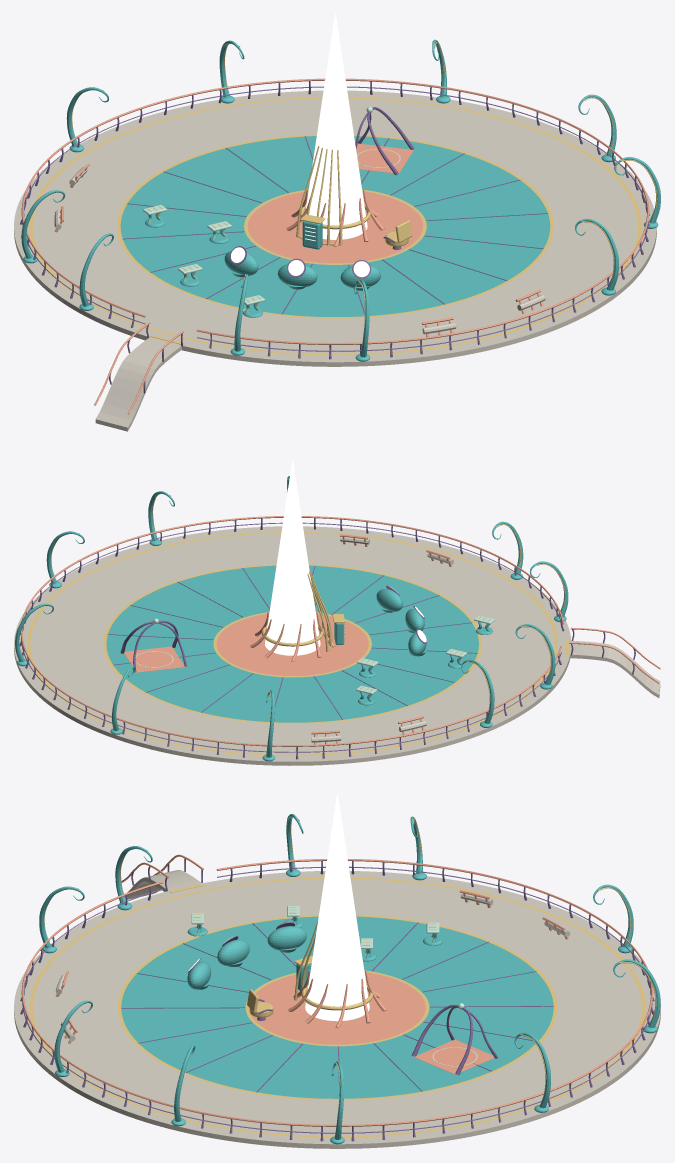
File: play_bridge.glb
3 views of the same model, one above another, from view 1: azimuth 30°, elevation 25°; view 2: azimuth 150°, elevation 25°; view 3: azimuth 270°, elevation 25° (orthographic). The views are drawn at different scales.
Parts seen in each view (by area): view 1: WALK_bridge_deck, deck_floor_fill, spire_needle, ramp_down, lift_arrival_pad, archive_shrine_ribs, console_navigation_1, console_navigation_2, WALK_bridge_ramp_head, console_navigation_0, archive_terminal, lift_arrival_arch (+3 smaller); view 2: WALK_bridge_deck, deck_floor_fill, spire_needle, ramp_down, lift_arrival_pad, lift_arrival_arch, archive_shrine_ribs, console_navigation_2, deck_body_05, rim_frond_5, WALK_bridge_ramp_head, deck_body_04 (+2 smaller); view 3: WALK_bridge_deck, deck_floor_fill, spire_needle, lift_arrival_pad, ramp_down, console_navigation_0, lift_arrival_arch, console_navigation_1, deck_body_00, deck_body_15, rim_frond_2, rim_frond_1 (+9 smaller).
Part boxes in pixels (box(x1,y1,x2,y2)): WALK_bridge_deck: box(33, 98, 637, 354); deck_floor_fill: box(14, 90, 656, 363); spire_needle: box(286, 14, 384, 246); ramp_down: box(94, 322, 184, 431); lift_arrival_pad: box(356, 143, 413, 173); archive_shrine_ribs: box(296, 146, 342, 245); console_navigation_1: box(277, 258, 317, 289); console_navigation_2: box(340, 260, 380, 290); WALK_bridge_ramp_head: box(128, 337, 180, 363); console_navigation_0: box(224, 246, 258, 277); archive_terminal: box(300, 214, 325, 249); lift_arrival_arch: box(355, 106, 414, 175); WALK_bridge_deck: box(30, 533, 570, 754); deck_floor_fill: box(14, 526, 608, 761); spire_needle: box(250, 460, 334, 661); ramp_down: box(565, 627, 660, 697); lift_arrival_pad: box(124, 646, 184, 672); lift_arrival_arch: box(120, 618, 187, 672); archive_shrine_ribs: box(307, 569, 332, 651); console_navigation_2: box(376, 585, 402, 612); deck_body_05: box(256, 758, 364, 765); rim_frond_5: box(515, 624, 555, 689); WALK_bridge_ramp_head: box(569, 641, 608, 657); deck_body_04: box(153, 746, 256, 764); WALK_bridge_deck: box(33, 879, 641, 1135); deck_floor_fill: box(14, 871, 660, 1144); spire_needle: box(288, 794, 386, 1028); lift_arrival_pad: box(414, 1039, 494, 1074); ramp_down: box(121, 854, 204, 899); console_navigation_0: box(267, 922, 306, 952); lift_arrival_arch: box(411, 1003, 497, 1075); console_navigation_1: box(217, 936, 249, 966); deck_body_00: box(337, 1134, 461, 1148); deck_body_15: box(213, 1134, 337, 1148); rim_frond_2: box(613, 959, 660, 1033); rim_frond_1: box(514, 1032, 550, 1112).
Bounding box in the file's own units: 48.54 × 19.7 × 44.
